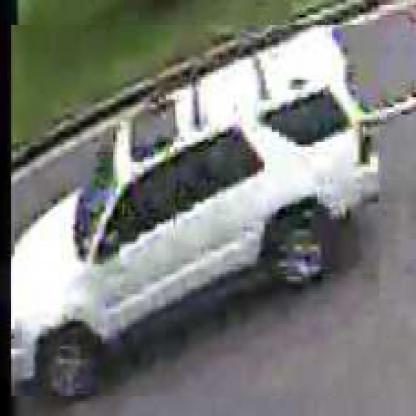car: (10, 26, 381, 399)
